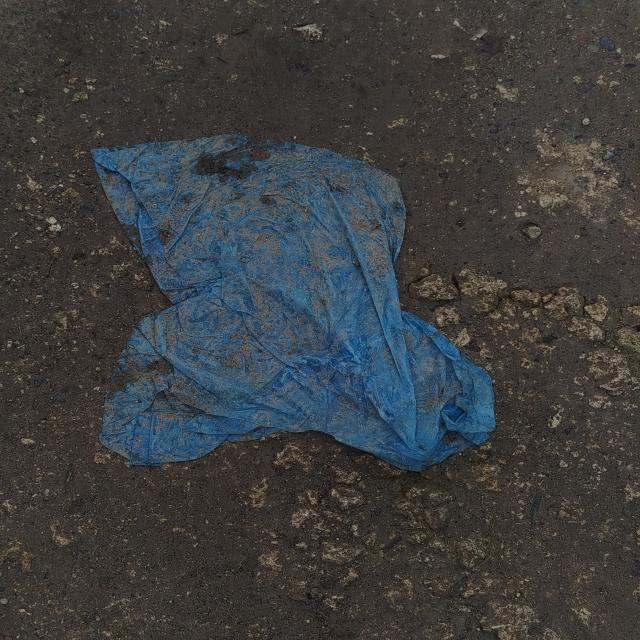residual: (62, 122, 518, 490)
